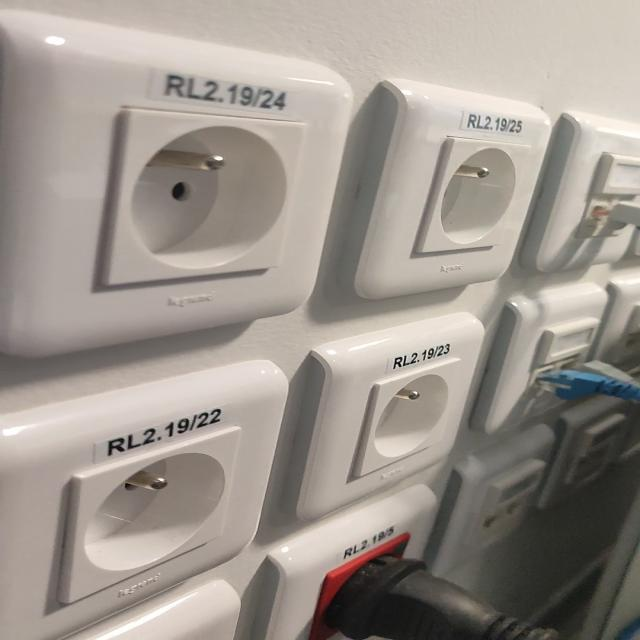house plug: (108, 110, 308, 286), (66, 428, 238, 603), (419, 137, 530, 253), (358, 360, 458, 477)
